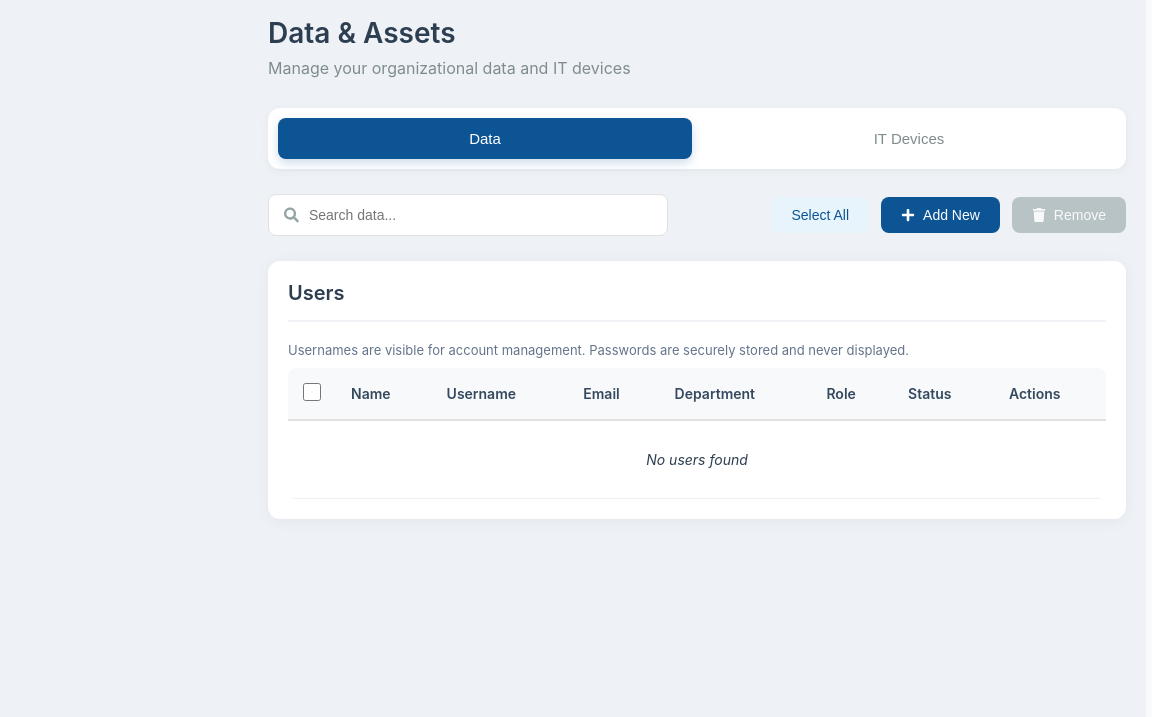
Test: rejects an invalid serial number before updating: HP-8
Click the button "IT Devices" at (909, 138), box [702,118,1116,159]
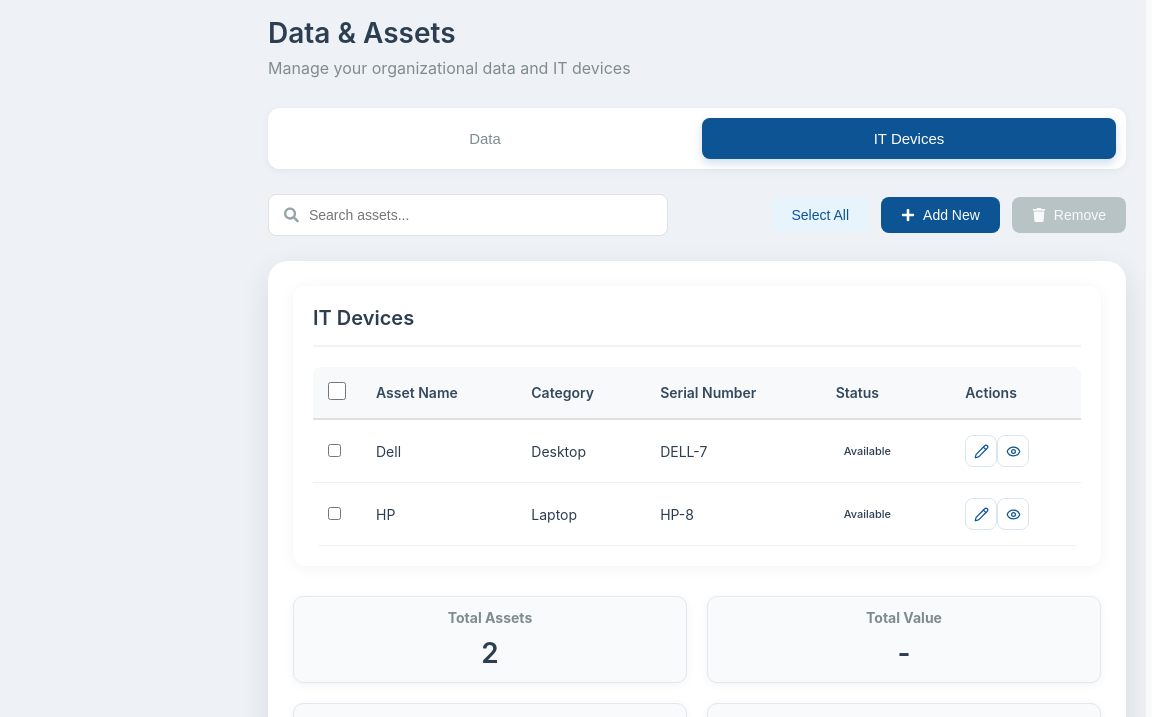
expect the text "Dell" is shown: met, box [361,419,516,482]
Click the button named "Edit Dell" at (981, 451), box [965,435,997,467]
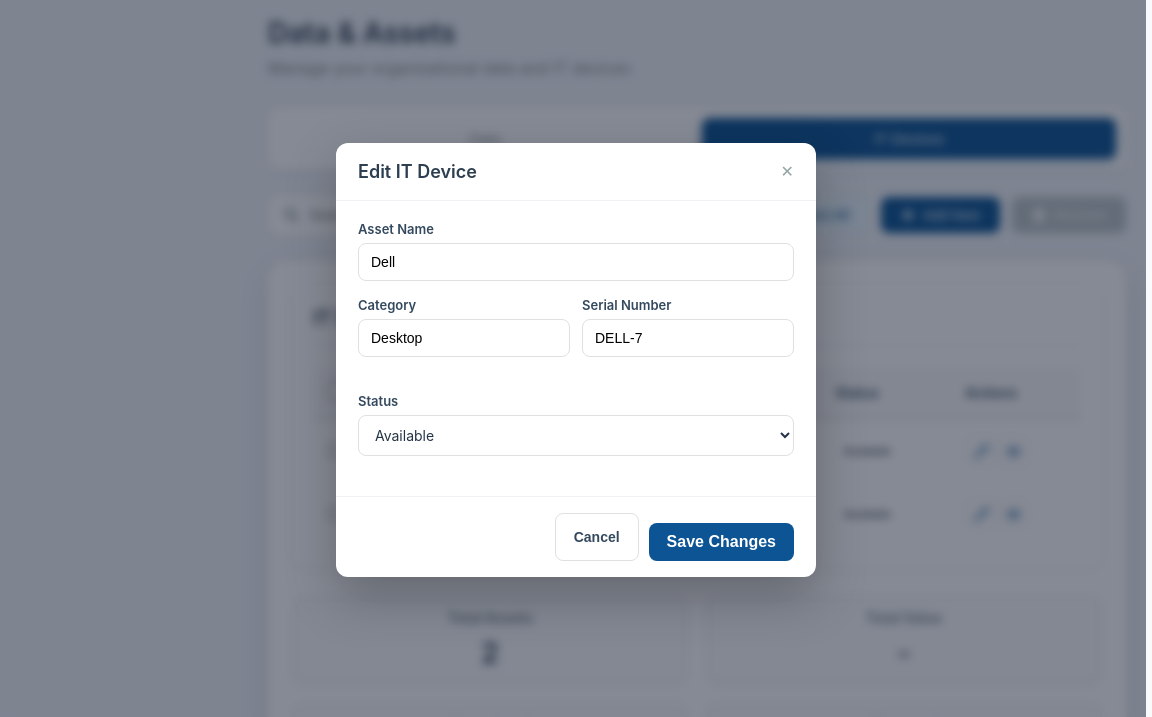
Replace the text in the field labelled "Serial Number" with "HP-8" at (688, 338), box [582,319,794,357]
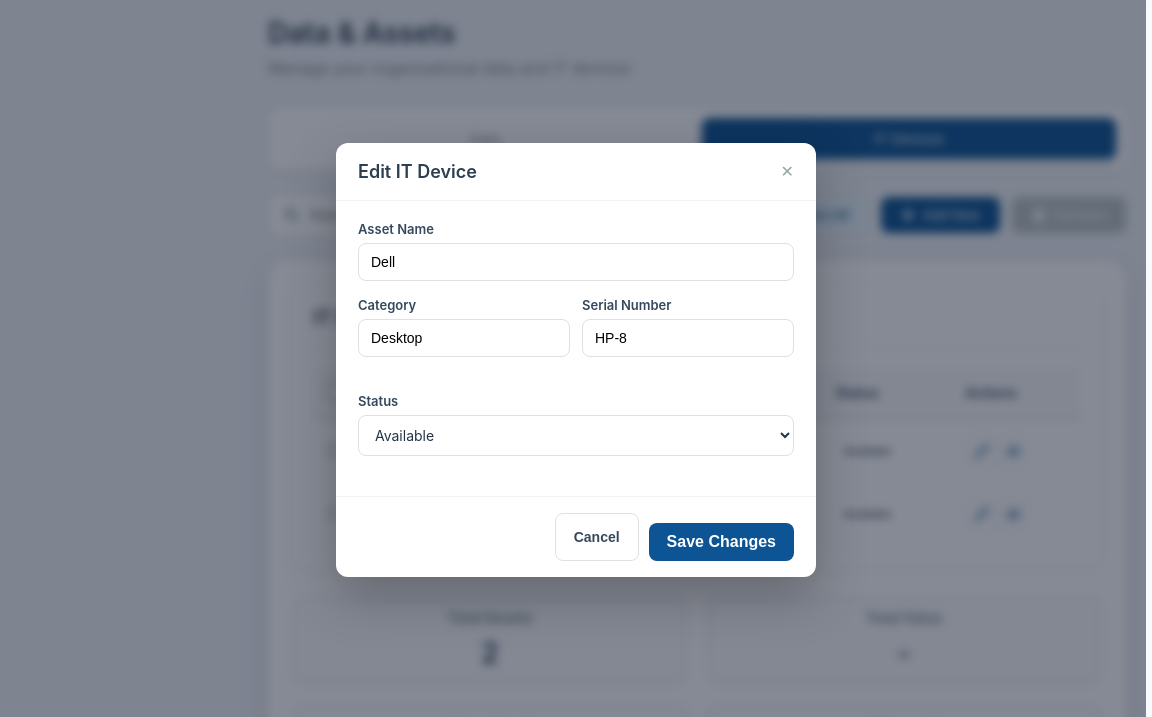
Click the button "Save Changes" at (721, 542), box [649,523,794,561]
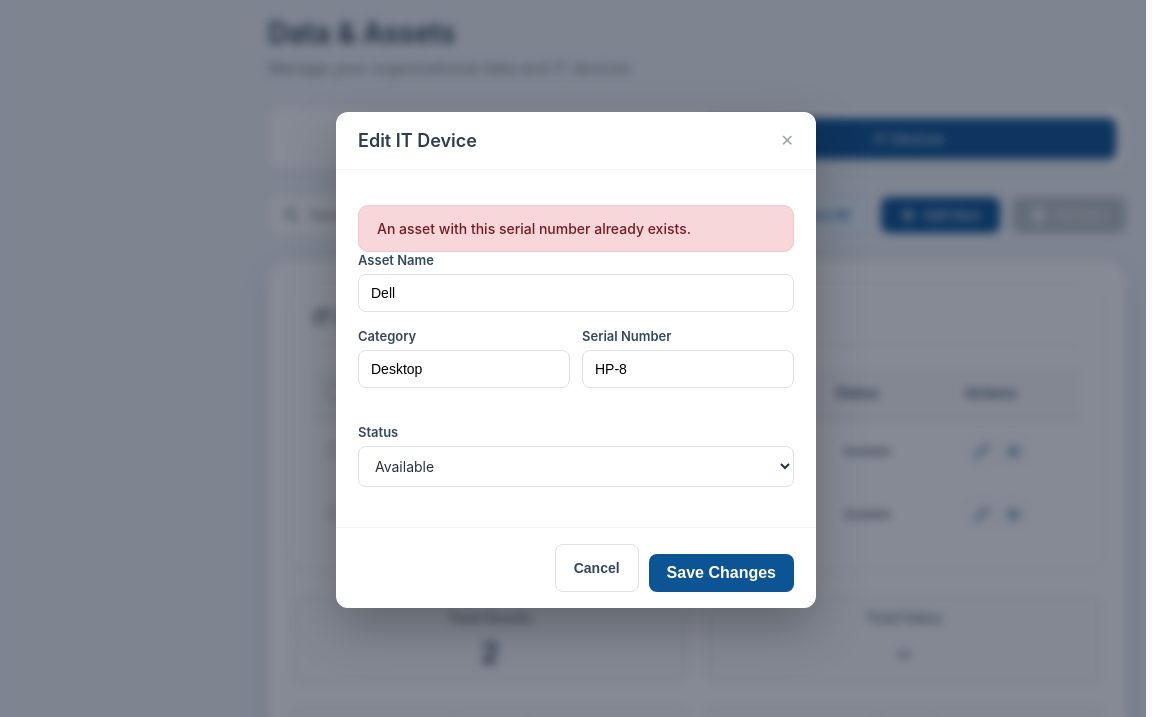
expect the message reads "An asset with this serial number already exists.": met, box [377,220,691,237]
